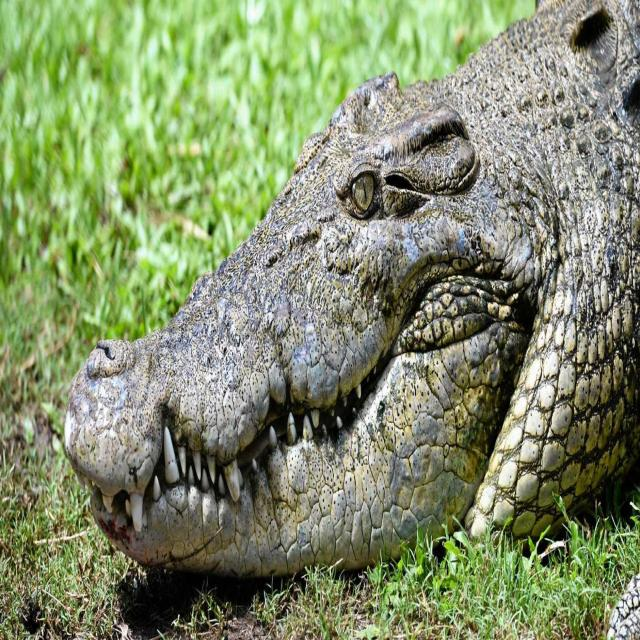crocodile: (62, 0, 639, 574)
